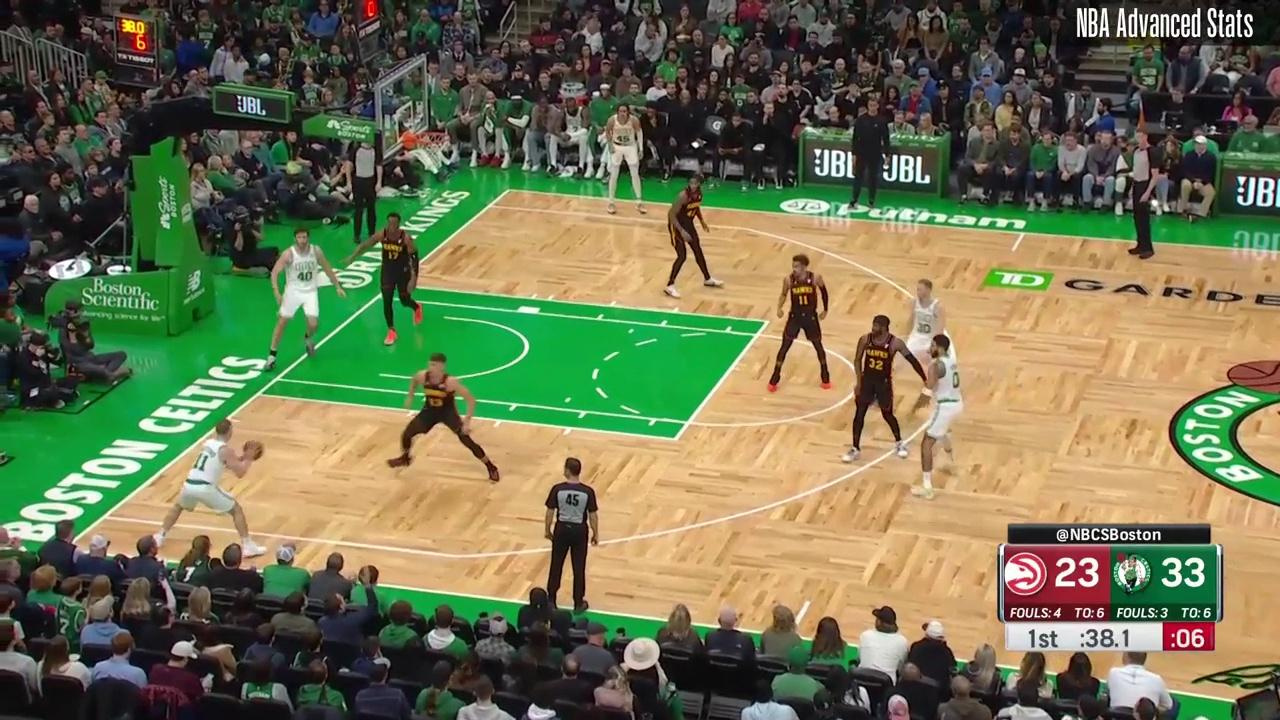3_dx: (484, 199, 499, 209)
3_sx: (98, 511, 113, 524)
b_dx: (501, 183, 518, 195)
free_adx: (760, 317, 774, 329)
free_asx: (669, 433, 681, 447)
free_bsx: (252, 387, 267, 401)
mid_dx: (1006, 243, 1022, 256)
mid_sx: (801, 594, 815, 609)
referee: (543, 455, 601, 615), (1126, 129, 1158, 259)
team: (154, 418, 268, 557), (264, 226, 347, 373), (911, 335, 964, 500), (899, 279, 947, 402), (605, 103, 646, 217)
team1: (388, 353, 501, 484), (841, 314, 929, 461), (346, 213, 424, 345), (767, 254, 831, 391), (665, 174, 725, 300)
timer: (1068, 622, 1141, 652)
